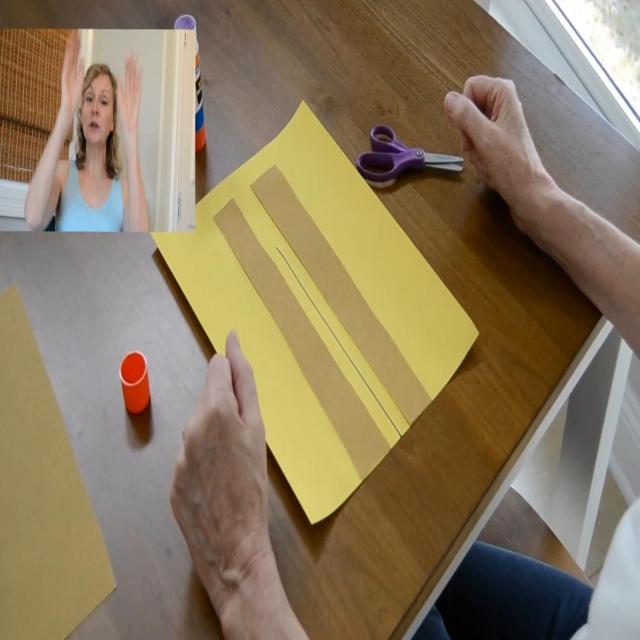scissor: (356, 124, 464, 184)
